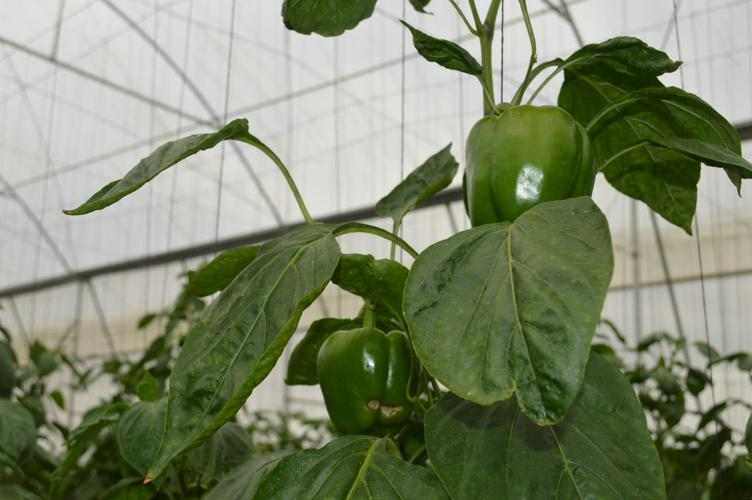BellPepper: (454, 97, 601, 235), (302, 317, 436, 440)
